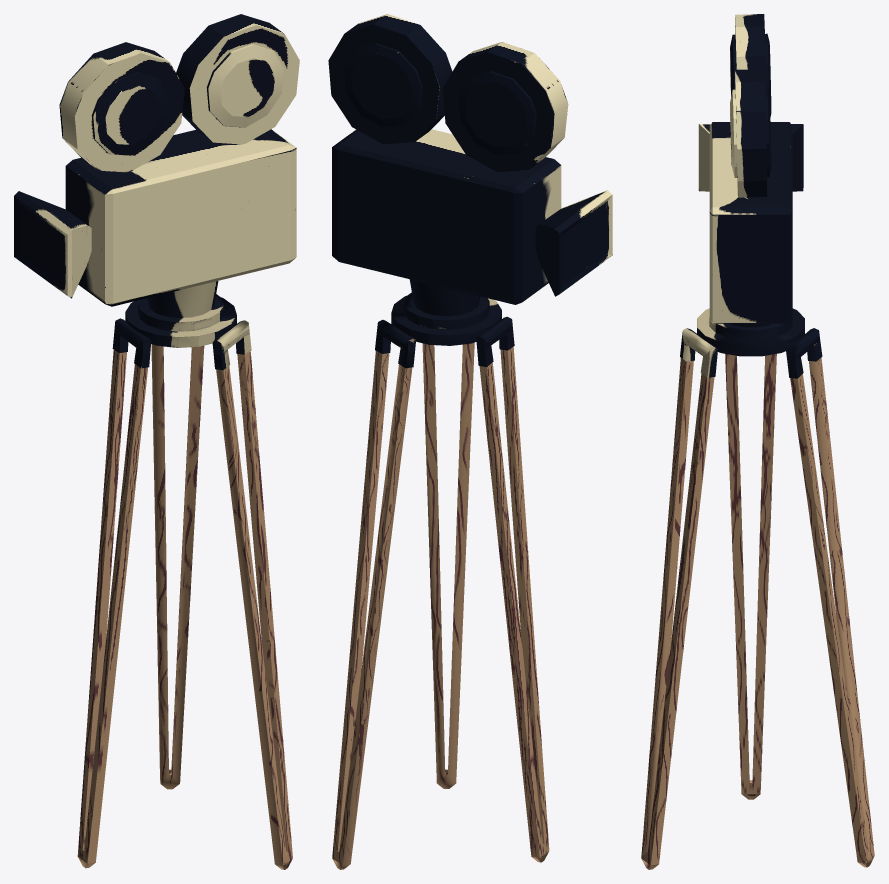
Rendered from Cam.fbx.
3 views of the same model, side by side, from view 1: azimuth 30°, elevation 25°; view 2: azimuth 150°, elevation 25°; view 3: azimuth 270°, elevation 25° (orthographic).
Visible parts, largest first — view 1: Cylinder.003, Cube, Cube.001; view 2: Cylinder.003, Cube, Cube.001; view 3: Cube, Cylinder.003, Cube.001.
Boxes of the visible parts, x1,y1,x2,y2 form: Cylinder.003: (14, 14, 299, 306); Cube: (77, 344, 292, 869); Cube.001: (112, 281, 251, 370); Cylinder.003: (328, 14, 612, 304); Cube: (332, 338, 549, 869); Cube.001: (375, 279, 514, 368); Cube: (641, 354, 874, 869); Cylinder.003: (698, 14, 803, 323); Cube.001: (680, 308, 822, 378).
Size of the model in its own units: 277 by 849 by 226.
3 materials, 3 textured.
